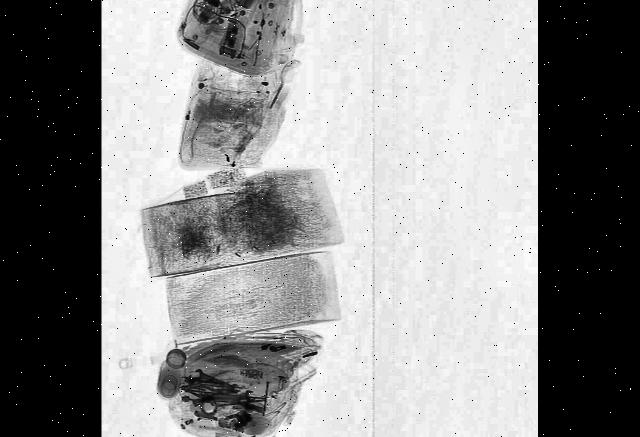Wrench: (193, 366, 240, 400), (204, 391, 255, 404)
